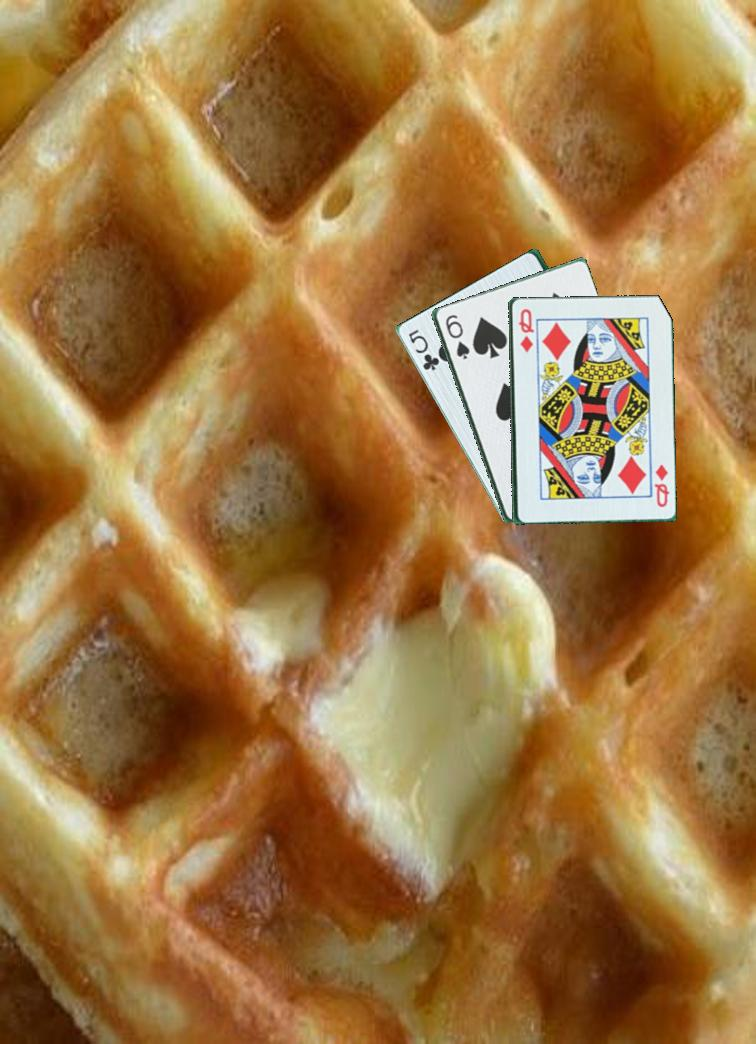5c: (404, 326, 442, 376)
6s: (441, 311, 472, 362)
qd: (650, 460, 672, 510), (515, 305, 535, 355)
